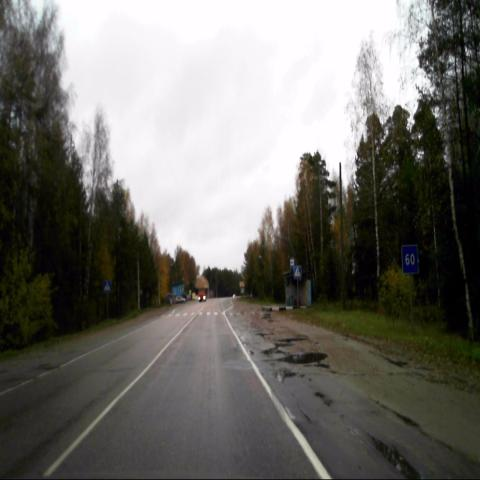6_2: (402, 246, 418, 276)
